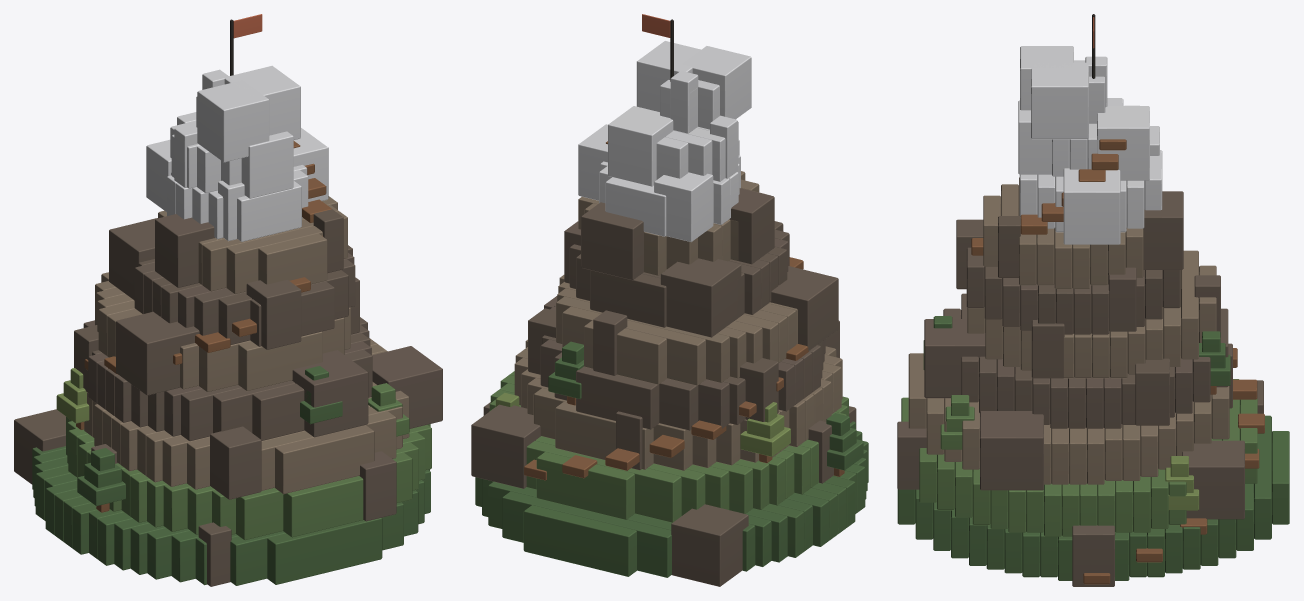
The model's file is region_26.glb.
3 views of the same model, side by side, from view 1: azimuth 30°, elevation 25°; view 2: azimuth 150°, elevation 25°; view 3: azimuth 270°, elevation 25° (orthographic). The views are drawn at different scales.
Parts seen in each view (by area): view 1: region_26_static; view 2: region_26_static, region_26_flag; view 3: region_26_static.
Boxes of the visible parts, x1,y1,x2,y2 form: region_26_static: (14,19,442,586); region_26_static: (471,19,868,586); region_26_flag: (642,14,670,37); region_26_static: (897,14,1289,586).
Bounding box in the file's own units: 11.54 × 15 × 11.01.
